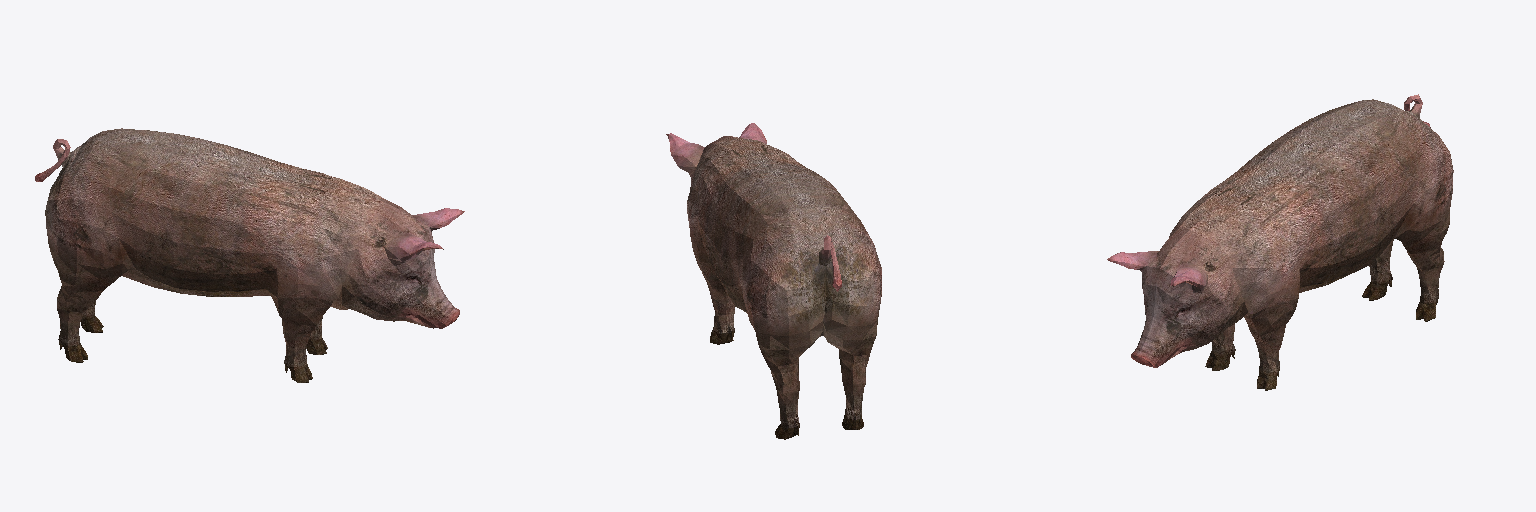
3 renders of one model, left to right at view 1: azimuth 30°, elevation 25°; view 2: azimuth 150°, elevation 25°; view 3: azimuth 270°, elevation 25°, orthographic.
Visible parts, largest first — view 1: Mesh_1244; view 2: Mesh_1244; view 3: Mesh_1244.
Boxes of the visible parts, box(x1,y1,x2,y2) form: Mesh_1244: box(35, 128, 464, 382); Mesh_1244: box(666, 123, 881, 439); Mesh_1244: box(1107, 94, 1453, 390).
Size of the model in its own units: 1.3 by 0.8432 by 1.25.
Materials: 1 (1 with a texture image).